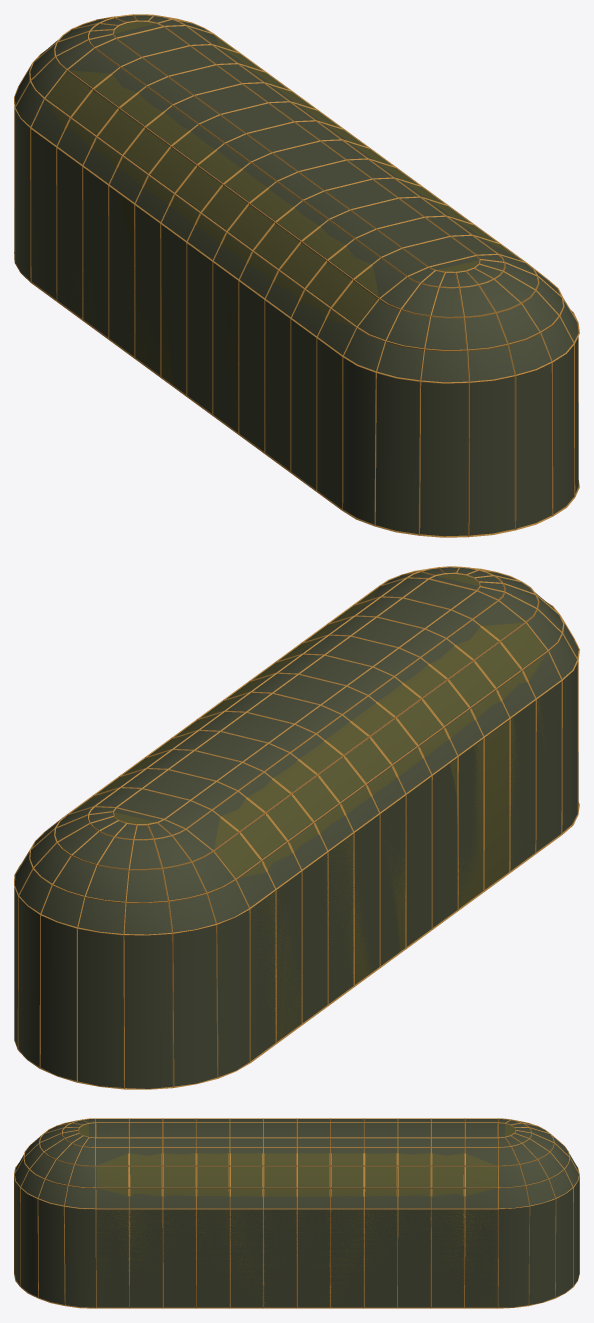
Rendered from PressurizedHangar_Giant.glb.
3 views of the same model, one above another, from view 1: azimuth 30°, elevation 25°; view 2: azimuth 150°, elevation 25°; view 3: azimuth 270°, elevation 25° (orthographic). The views are drawn at different scales.
Visible parts, largest first — view 1: PressurizedFactory_Giant_Skin, PressurizedFactory_Giant_LOD0, PressurizedFactory_Giant_Webbing; view 2: PressurizedFactory_Giant_Skin, PressurizedFactory_Giant_LOD0, PressurizedFactory_Giant_Webbing; view 3: PressurizedFactory_Giant_Skin, PressurizedFactory_Giant_LOD0, PressurizedFactory_Giant_Webbing.
Boxes of the visible parts, x1=… form: PressurizedFactory_Giant_Skin: x1=14, y1=15, x2=578, y2=536; PressurizedFactory_Giant_LOD0: x1=31, y1=22, x2=521, y2=502; PressurizedFactory_Giant_Webbing: x1=14, y1=14, x2=579, y2=537; PressurizedFactory_Giant_Skin: x1=14, y1=567, x2=578, y2=1088; PressurizedFactory_Giant_LOD0: x1=71, y1=574, x2=549, y2=1058; PressurizedFactory_Giant_Webbing: x1=14, y1=566, x2=579, y2=1089; PressurizedFactory_Giant_Skin: x1=14, y1=1119, x2=579, y2=1307; PressurizedFactory_Giant_LOD0: x1=79, y1=1123, x2=514, y2=1307; PressurizedFactory_Giant_Webbing: x1=14, y1=1118, x2=579, y2=1308.
Size of what is drawn, in the model's own units: 140 by 136 by 483.
